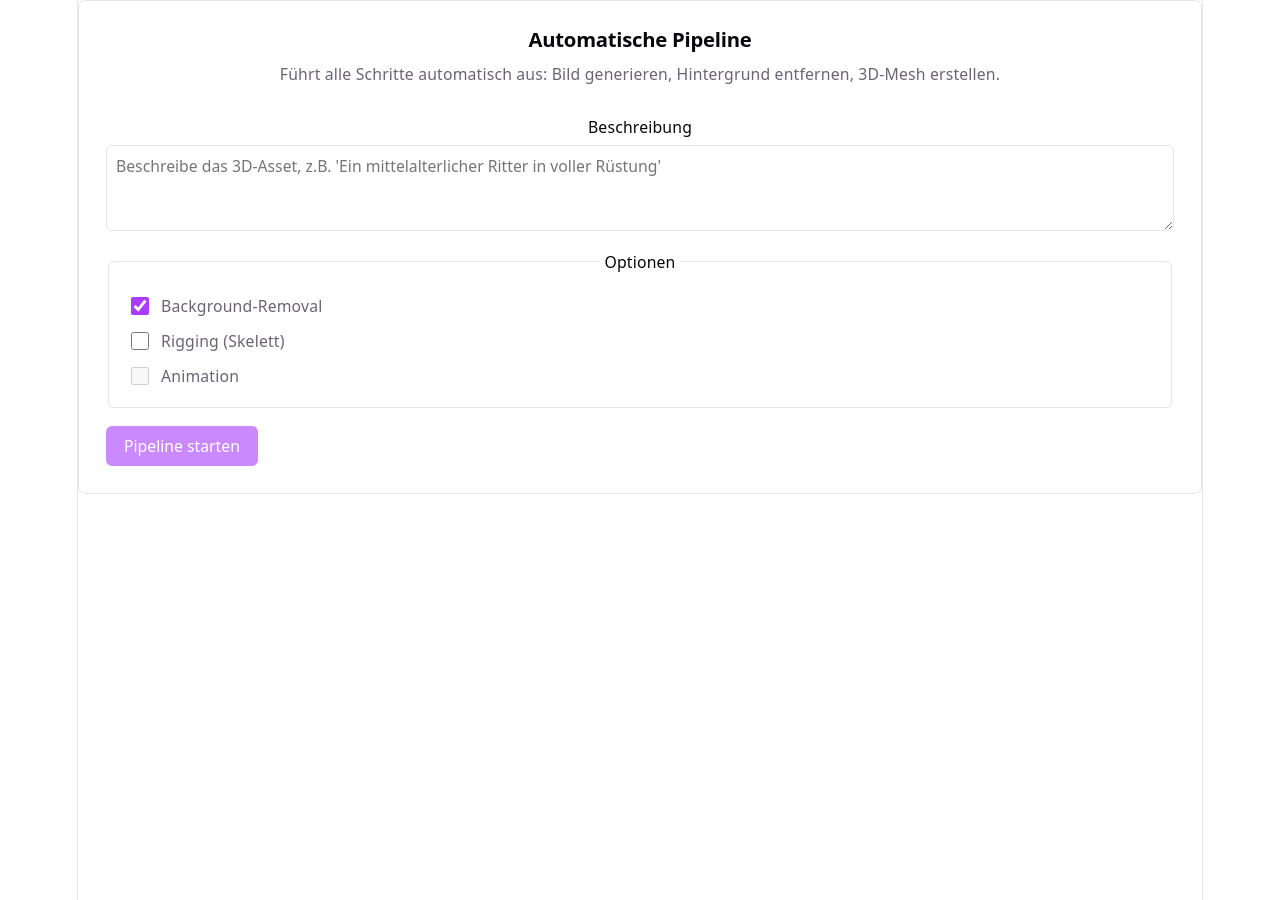
Test case: AutoPipelinePanel › zeigt Fehler bei fehlgeschlagenem API-Aufruf
Replace the text in the text box labelled "Beschreibung" with "Test": (640,188) [106,145,1174,231]
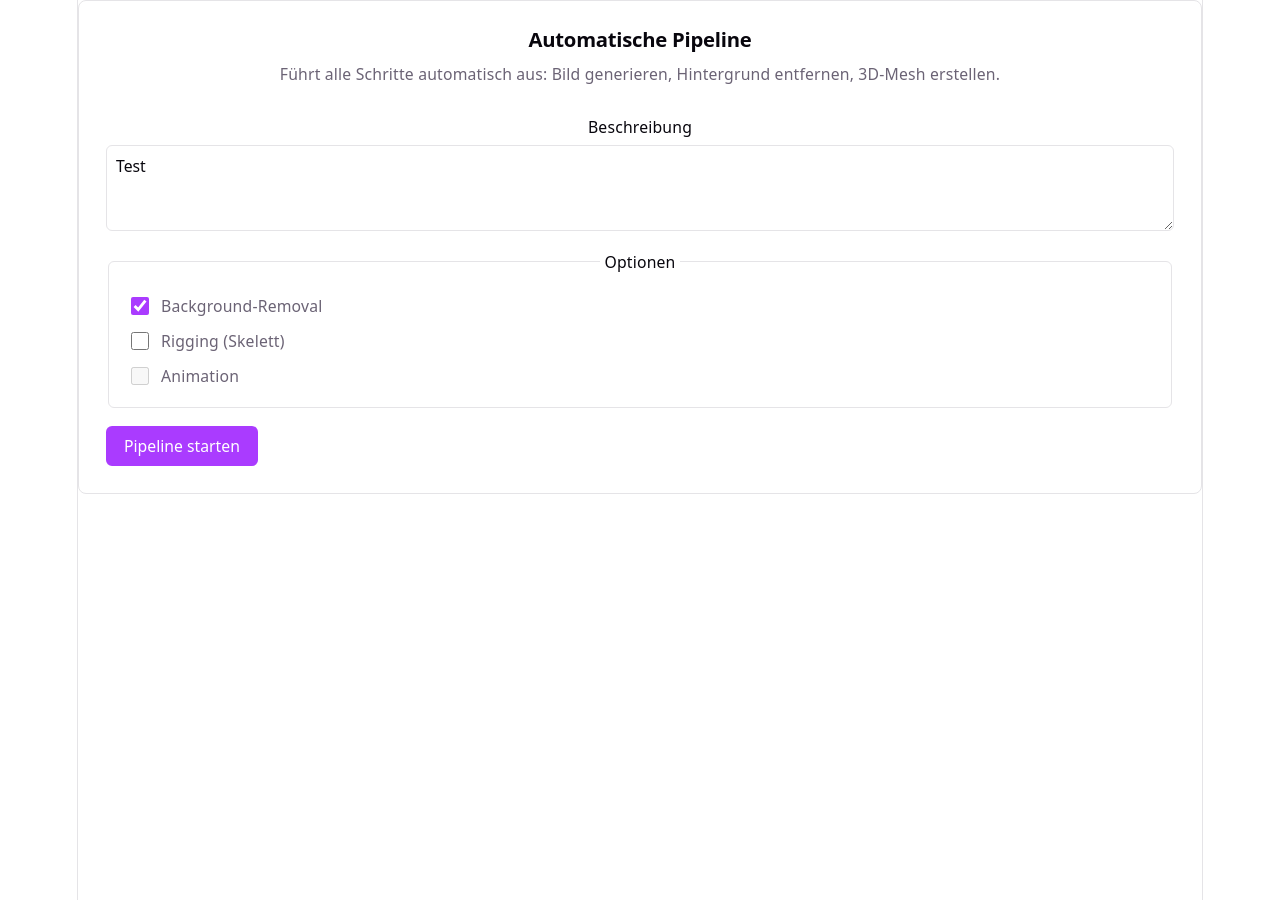
Click the button "Pipeline starten": (182,446) [106,426,258,466]
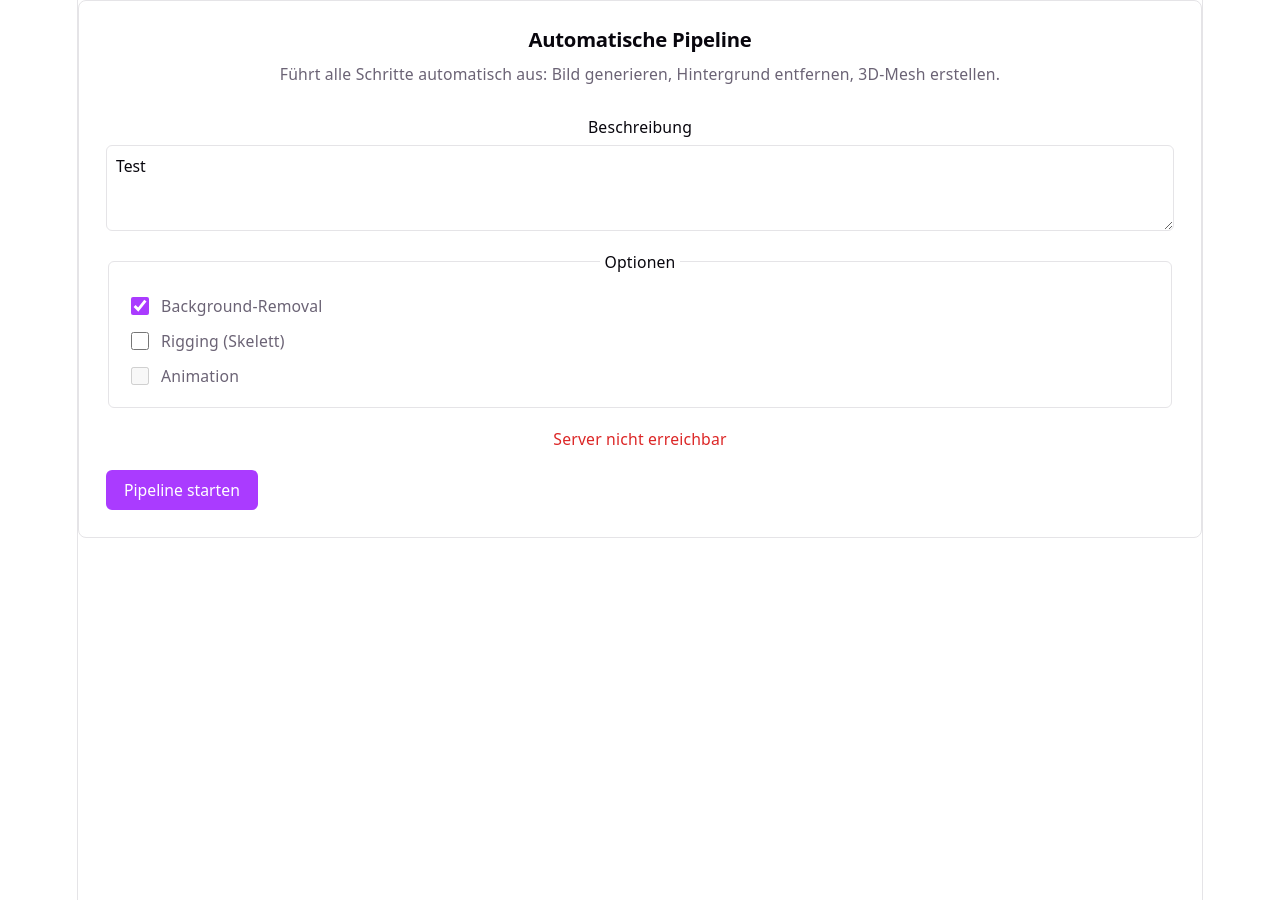
Check: the message "Server nicht erreichbar" is shown, box [553,428,727,450]
